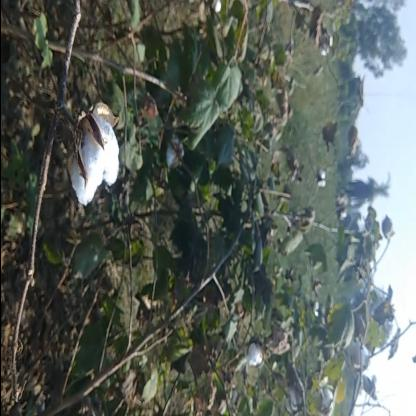cotton_ready: (38, 72, 124, 226)
